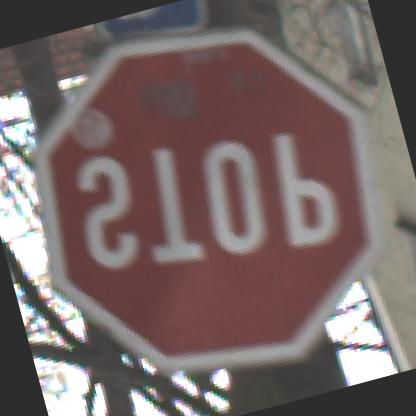stop: (4, 0, 407, 396)
